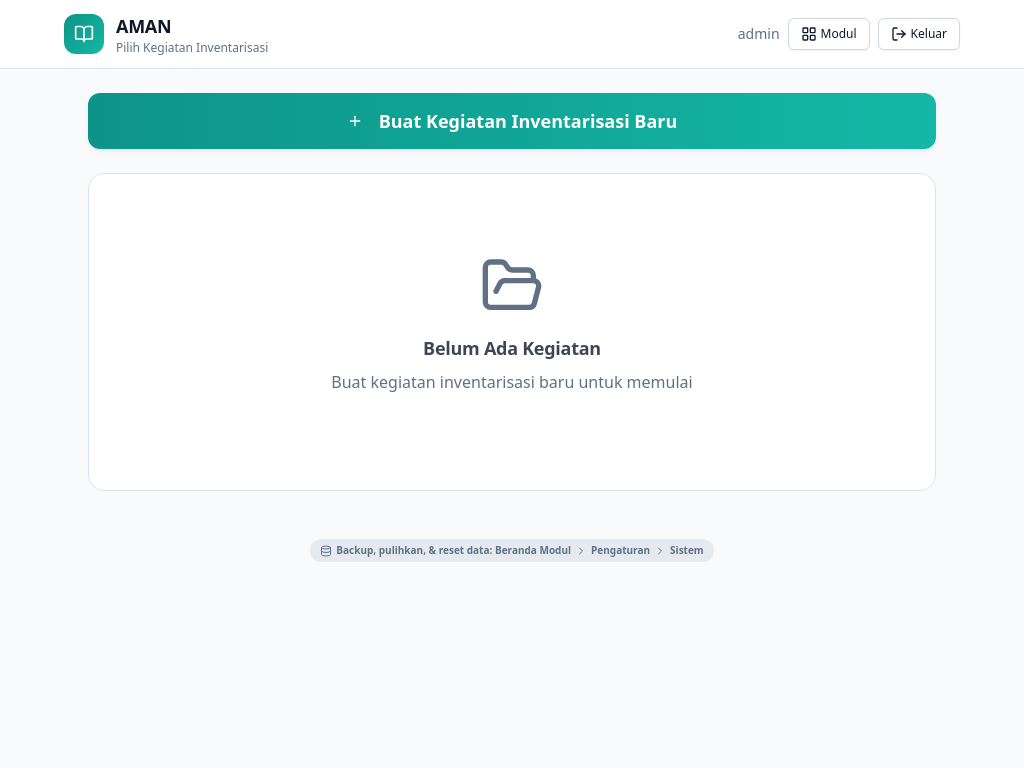
Test case: satker Eselon V tak punya laci kedua — Eselon VI tak dikarang
This screenshot has width=1024, height=768.
Click the button "Buat Kegiatan Inventarisasi Baru". click: [512, 121]
box: [88,93,936,149]
(page scrolled)
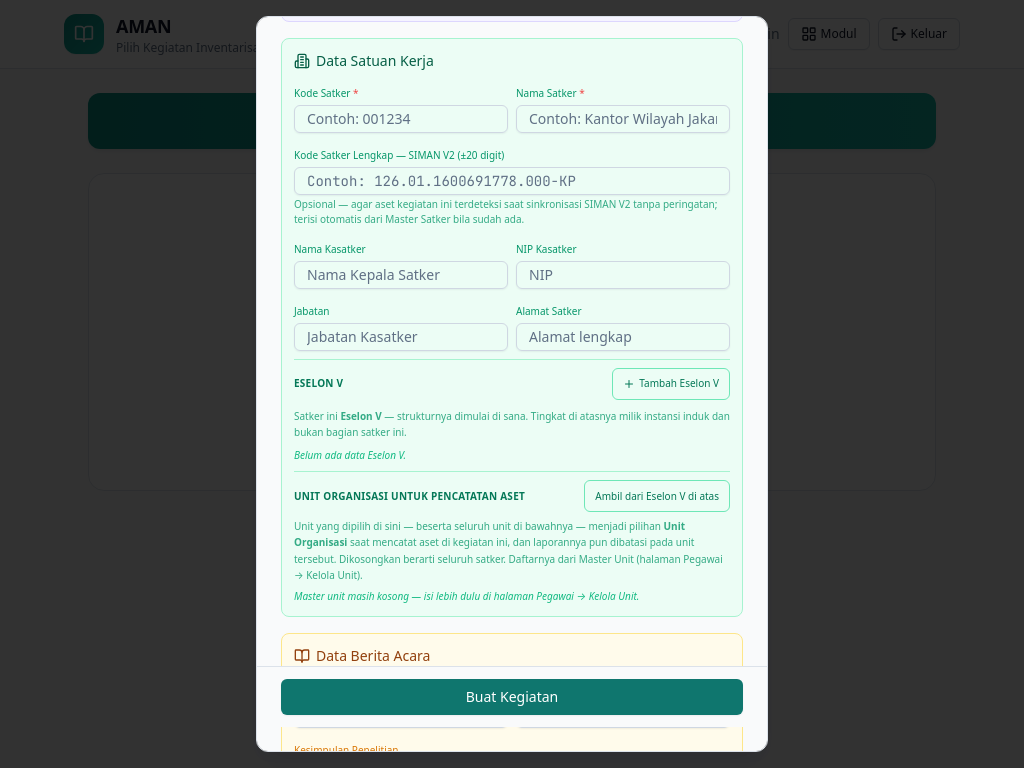
Click the button with test id "add-eselon1-btn". click: [671, 384]
box: [612,368,730,400]
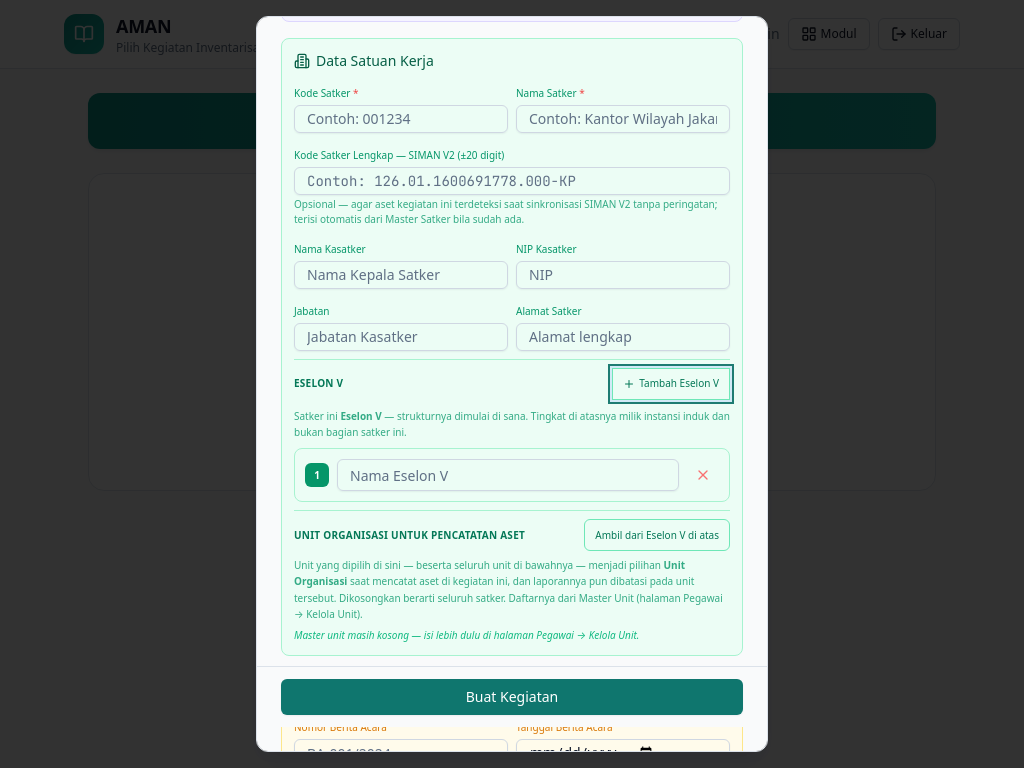
Result: the field with placeholder "Nama Eselon V" is shown at [337,459,679,491]
